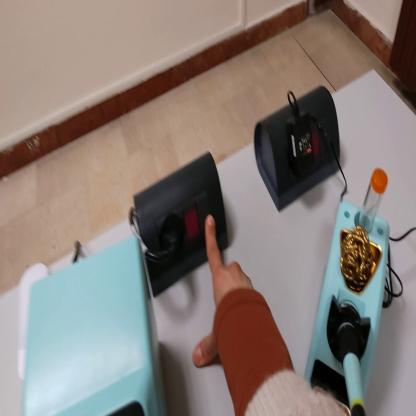hand: (197, 212, 284, 380)
socket: (134, 155, 232, 301), (255, 80, 343, 212)
welder base: (305, 170, 405, 411)
welder probe tip: (339, 319, 366, 415)
welder station: (27, 238, 165, 416)
